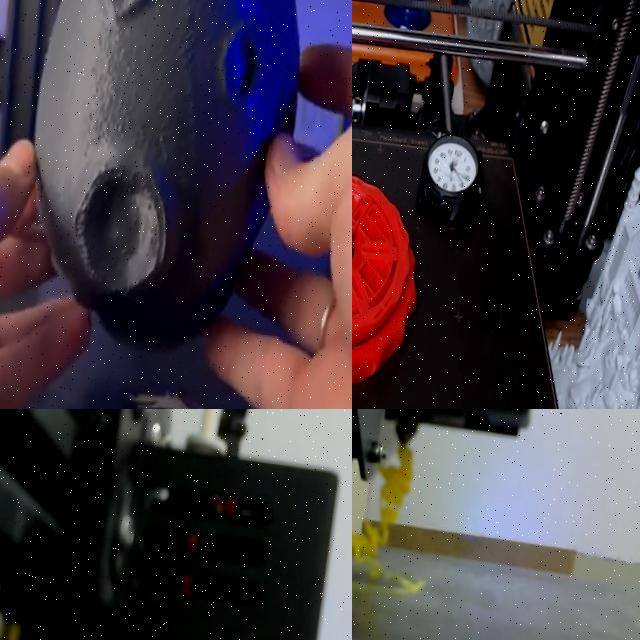spaghetti: (352, 447, 422, 592)
